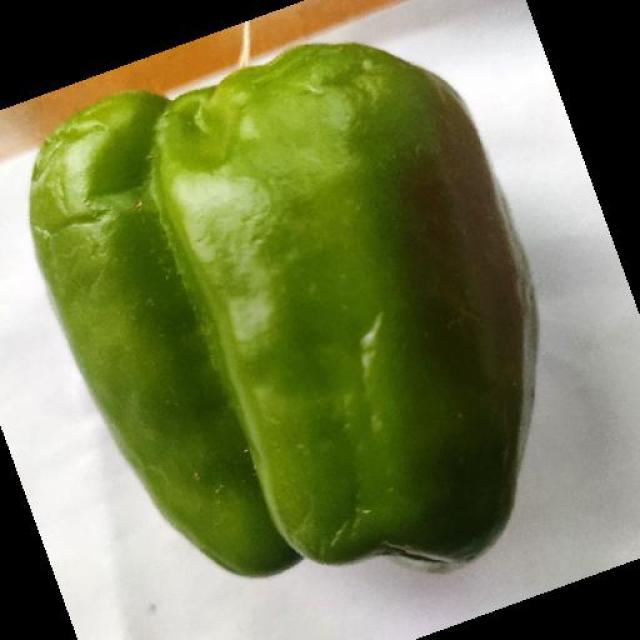Fresh_Capsicum: (43, 76, 538, 568)
